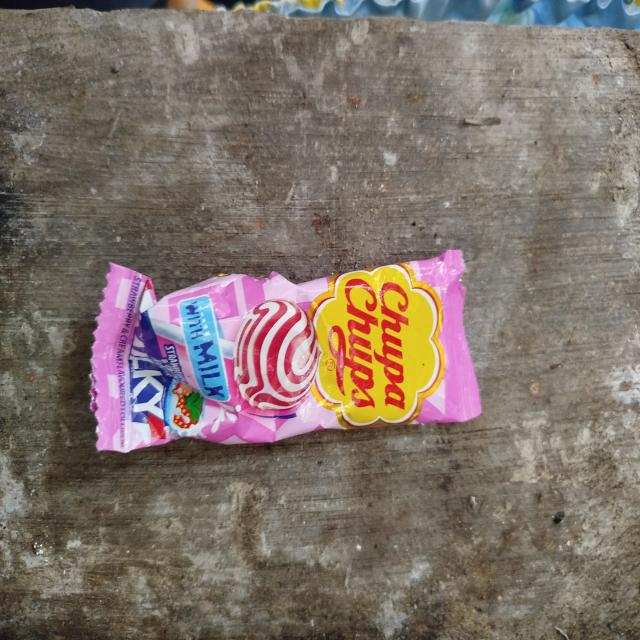residual: (85, 249, 491, 462)
